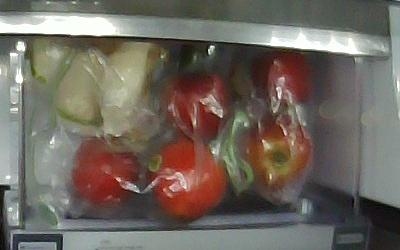apple_vinyl: (144, 134, 227, 217), (233, 111, 312, 190), (158, 69, 231, 141), (70, 133, 141, 207), (246, 49, 314, 108)
